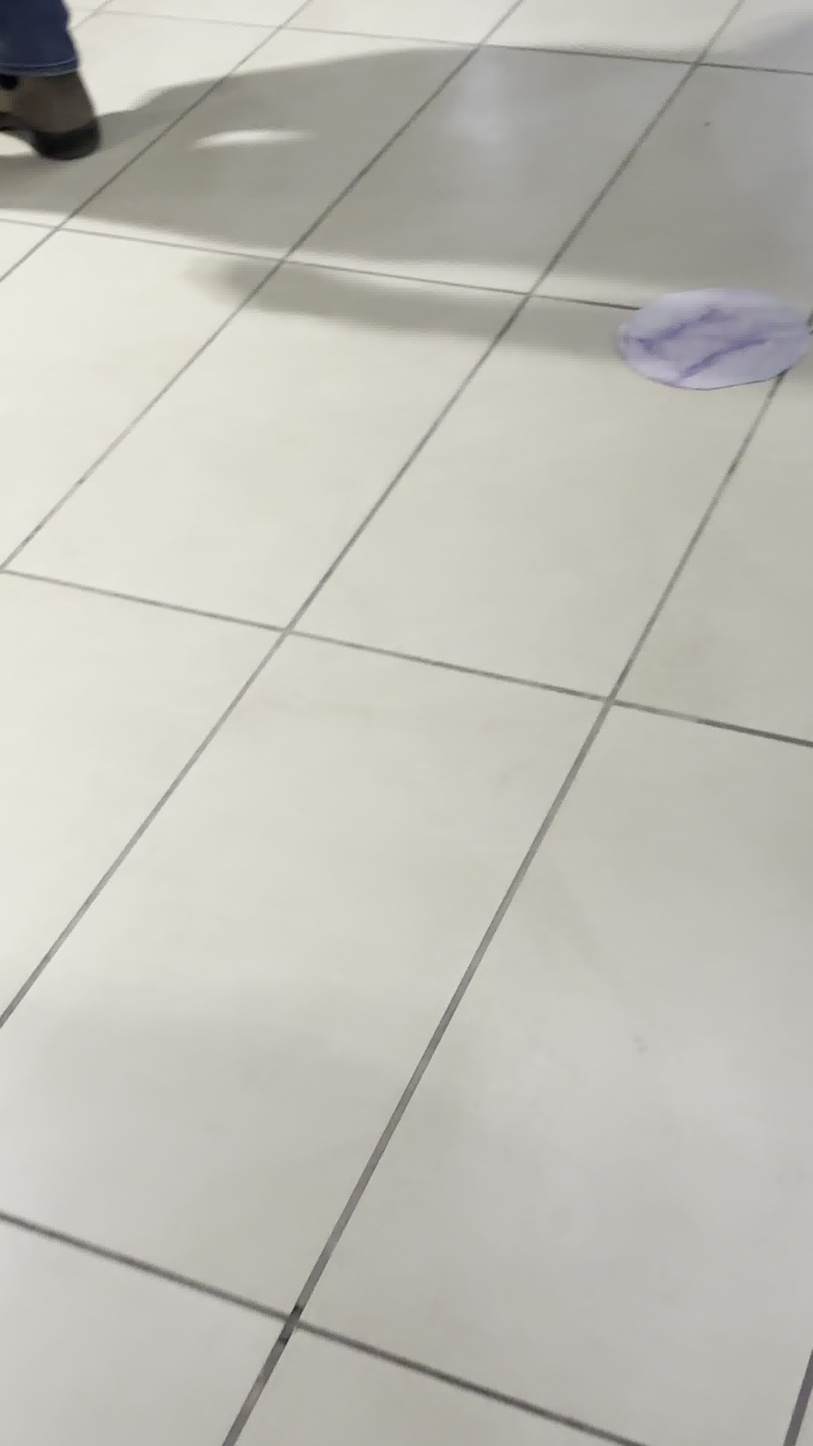Target: (610, 290, 813, 390)
